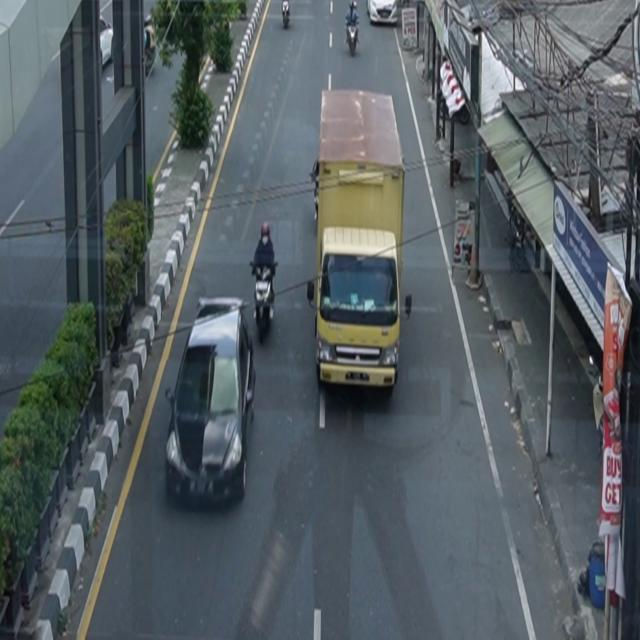car: (165, 297, 257, 509), (367, 1, 398, 26)
truck: (308, 88, 413, 395)
